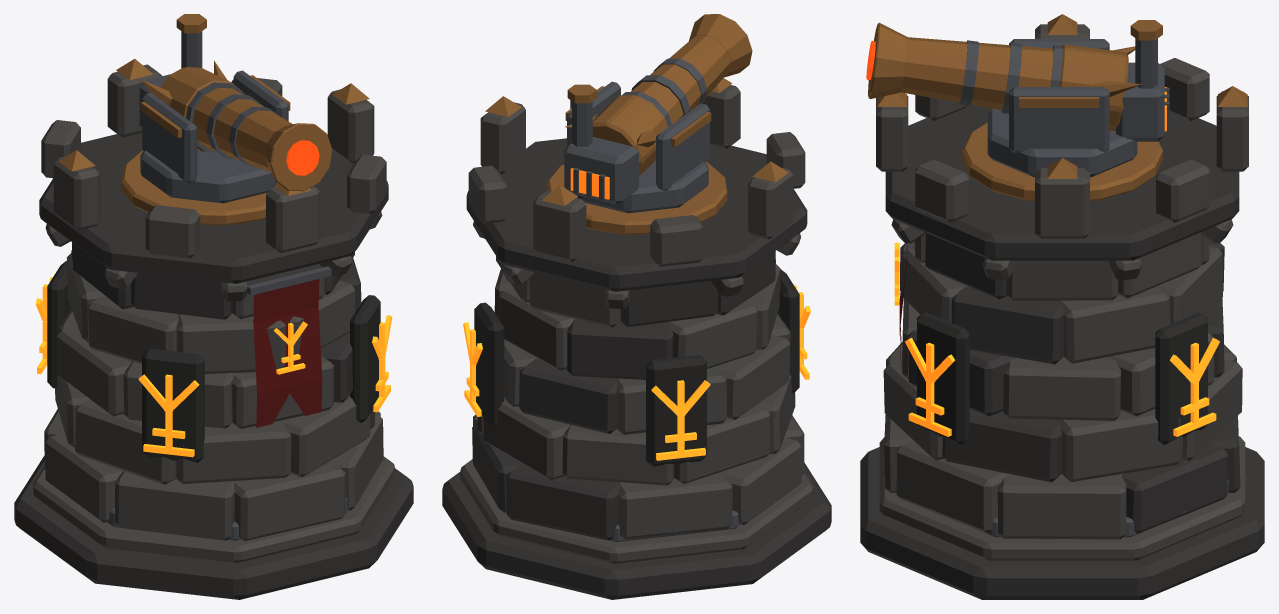
Rendered from cannon_tower_lvl3.glb.
3 views of the same model, side by side, from view 1: azimuth 30°, elevation 25°; view 2: azimuth 150°, elevation 25°; view 3: azimuth 270°, elevation 25° (orthographic). The views are drawn at different scales.
Visible parts, largest first — view 1: Platform, Plinth, Plinth_Step, Banner, Block_0_5, Block_0_6, Block_1_5, RuneStone_3, Block_3_5, Block_1_4, Turret_Base, Block_3_4 (+36 smaller); view 2: Platform, Plinth, Plinth_Step, Block_0_2, Block_0_3, Block_3_2, Block_2_2, RuneStone_2, Block_1_2, Block_1_1, Block_3_3, Block_1_3 (+33 smaller); view 3: Platform, Plinth, Plinth_Step, Block_0_0, Barrel_Tube, Block_2_0, Block_3_7, Block_1_0, Block_1_7, Block_3_0, Block_0_7, Block_0_1 (+38 smaller).
Part boxes in pixels (bbox=[...]): Platform: bbox=[39, 132, 388, 283]; Plinth: bbox=[14, 455, 413, 599]; Plinth_Step: bbox=[33, 456, 394, 562]; Banner: bbox=[253, 279, 322, 427]; Block_0_5: bbox=[115, 471, 234, 540]; Block_0_6: bbox=[233, 460, 345, 541]; Block_1_5: bbox=[175, 420, 291, 483]; RuneStone_3: bbox=[142, 348, 204, 462]; Block_3_5: bbox=[176, 313, 285, 373]; Block_1_4: bbox=[74, 399, 176, 484]; Turret_Base: bbox=[140, 149, 277, 203]; Block_3_4: bbox=[88, 296, 178, 363]; Platform: bbox=[466, 138, 807, 291]; Plinth: bbox=[442, 462, 831, 599]; Plinth_Step: bbox=[460, 459, 813, 563]; Block_0_2: bbox=[506, 463, 619, 540]; Block_0_3: bbox=[618, 471, 732, 539]; Block_3_2: bbox=[567, 319, 673, 379]; Block_2_2: bbox=[519, 358, 617, 433]; RuneStone_2: bbox=[646, 355, 706, 466]; Block_1_2: bbox=[562, 424, 674, 485]; Block_1_1: bbox=[483, 397, 569, 480]; Block_3_3: bbox=[666, 301, 757, 368]; Block_1_3: bbox=[674, 404, 770, 483]; Platform: bbox=[885, 105, 1239, 260]; Plinth: bbox=[860, 447, 1264, 599]; Plinth_Step: bbox=[879, 436, 1245, 560]; Block_0_0: bbox=[997, 474, 1126, 539]; Barrel_Tube: bbox=[901, 37, 1053, 109]; Block_2_0: bbox=[1003, 357, 1120, 420]; Block_3_7: bbox=[951, 286, 1063, 364]; Block_1_0: bbox=[1056, 409, 1182, 481]; Block_1_7: bbox=[942, 409, 1062, 482]; Block_3_0: bbox=[1060, 286, 1170, 363]; Block_0_7: bbox=[897, 440, 1010, 533]; Block_0_1: bbox=[1122, 443, 1227, 533].
Bounding box in the file's own units: 2.49 × 3.41 × 2.49.
